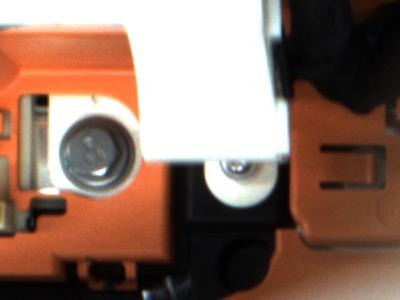nut_b: (52, 116, 138, 200)
